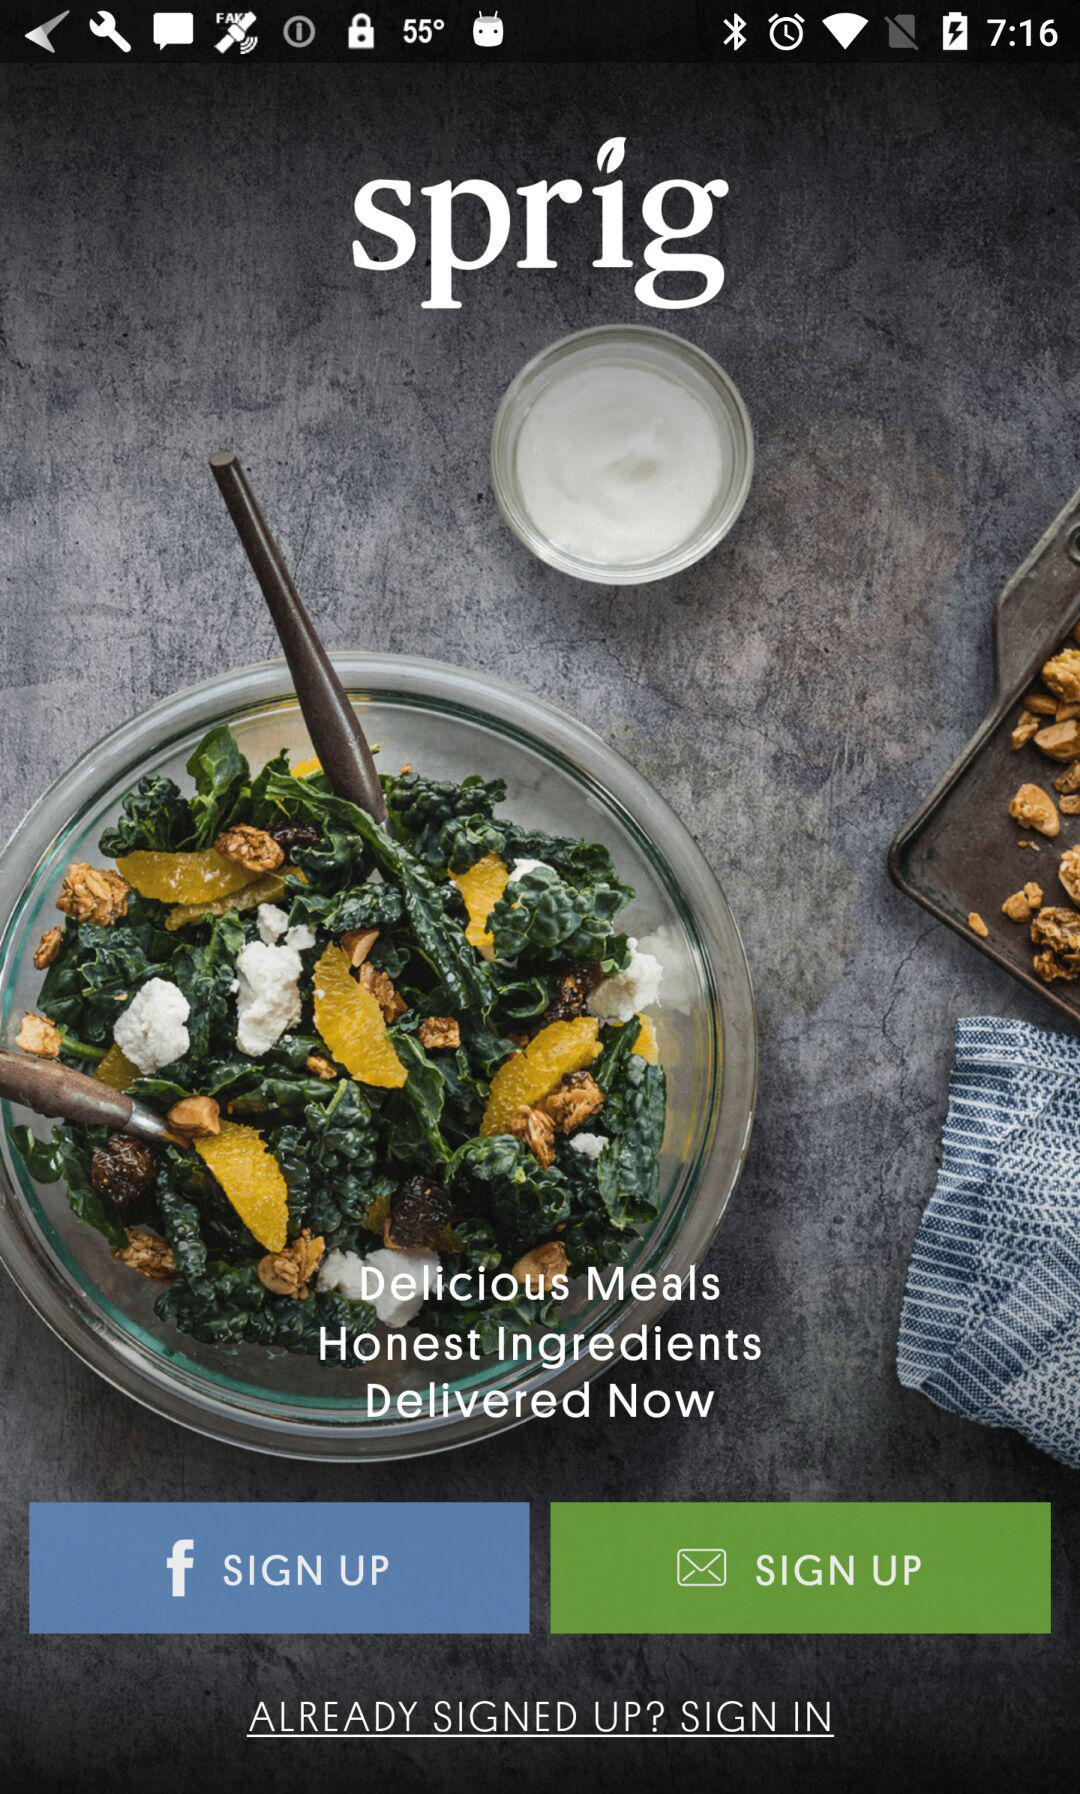BackgroundImage: (1, 64, 1080, 1794)
Image: (351, 135, 730, 313)
Text: (318, 1265, 762, 1422), (246, 1700, 837, 1739)
TextButton: (29, 1502, 530, 1635), (550, 1502, 1051, 1634)
UpperTaskBar: (1, 1, 1080, 64)
